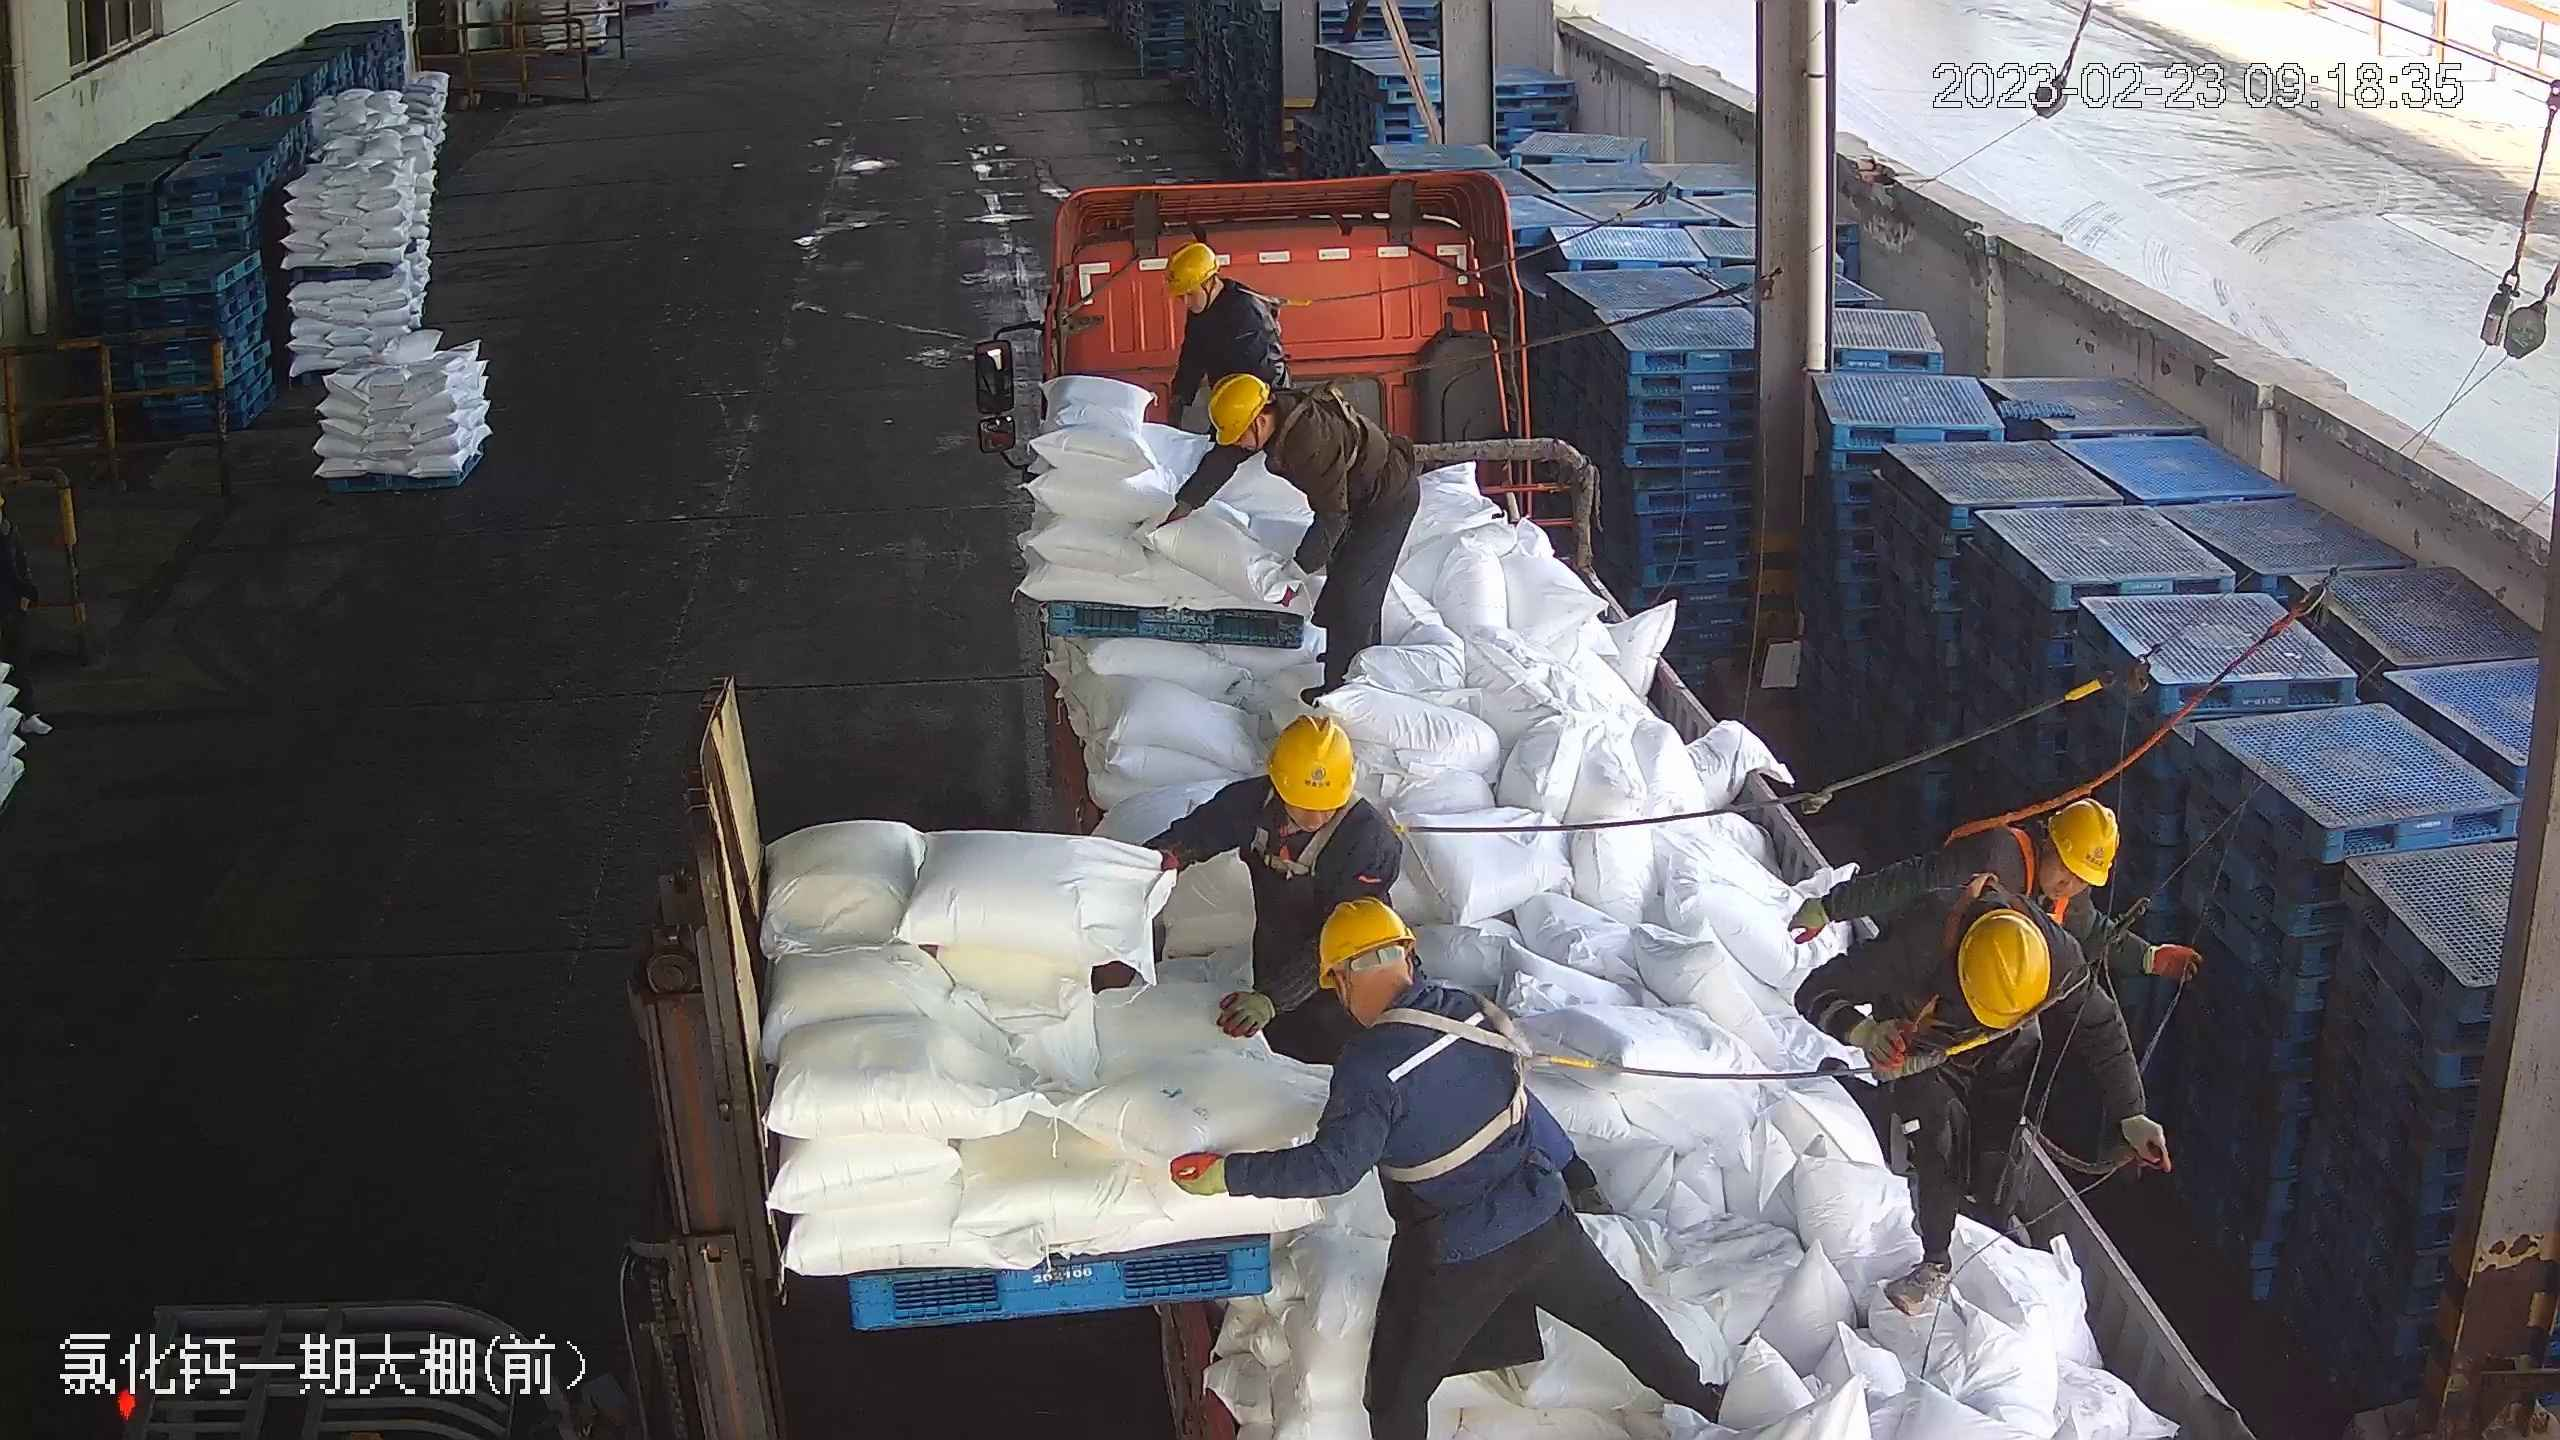belt: (1367, 989, 1600, 1177), (1262, 783, 1412, 882), (1937, 801, 2052, 918), (1266, 378, 1379, 478), (2013, 830, 2080, 923), (1231, 285, 1318, 340)
head: (1308, 896, 1513, 1104), (1209, 709, 1405, 877), (1953, 800, 2119, 921), (1203, 368, 1336, 479), (1163, 242, 1272, 341)
helmet: (1958, 911, 2052, 1024), (1313, 893, 1415, 988), (1264, 711, 1356, 810), (2050, 799, 2118, 883), (1204, 372, 1269, 444), (1161, 239, 1221, 295)
people: (1172, 896, 1726, 1440), (1806, 892, 2159, 1302), (1138, 713, 1401, 1055), (1165, 369, 1423, 703)
truck: (979, 167, 2242, 1437)
